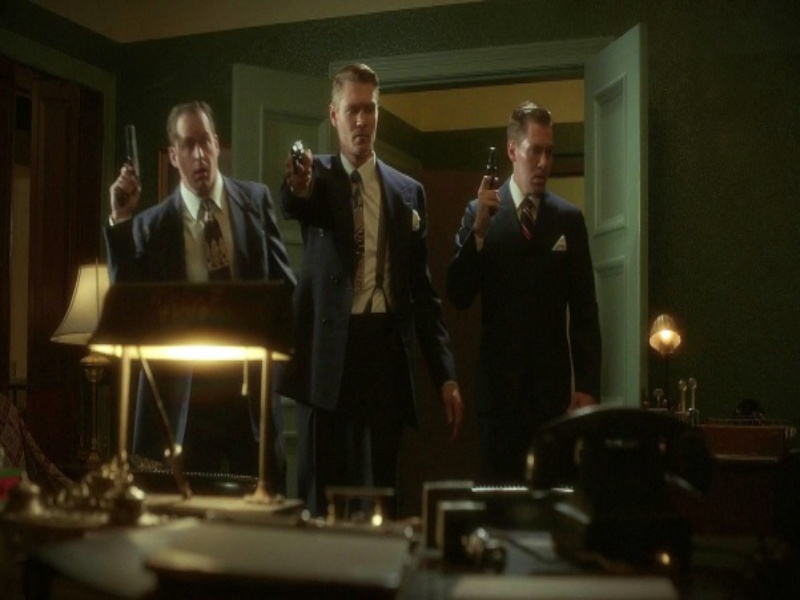person: (278, 64, 464, 518), (99, 98, 298, 476), (446, 100, 605, 463)
weapon: (116, 121, 144, 207), (480, 144, 504, 218), (286, 140, 308, 180)
